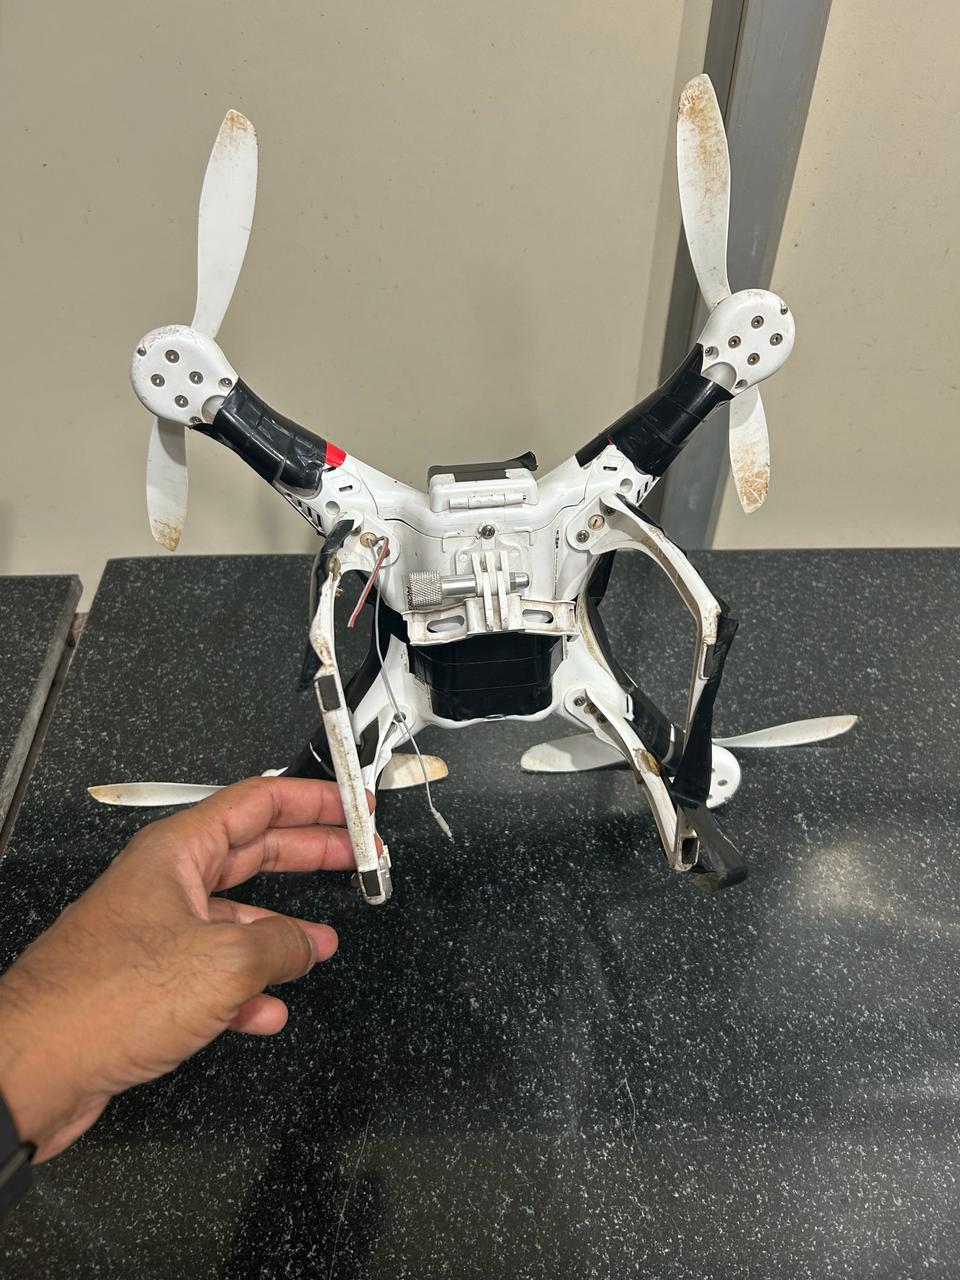drone: (1, 40, 927, 937)
